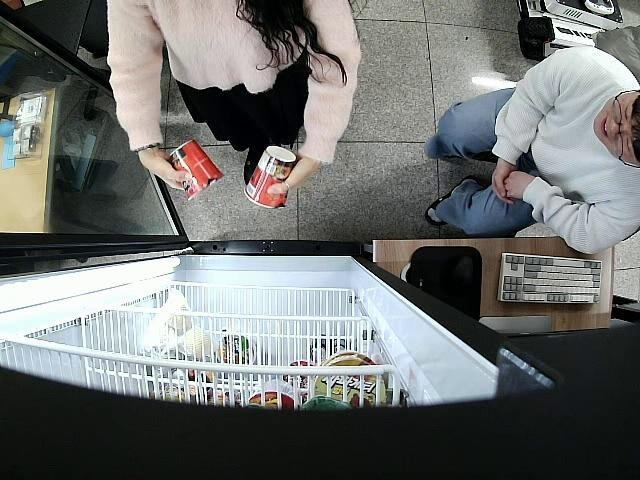02_shinRamen_S: (244, 147, 298, 210), (169, 142, 226, 201)
